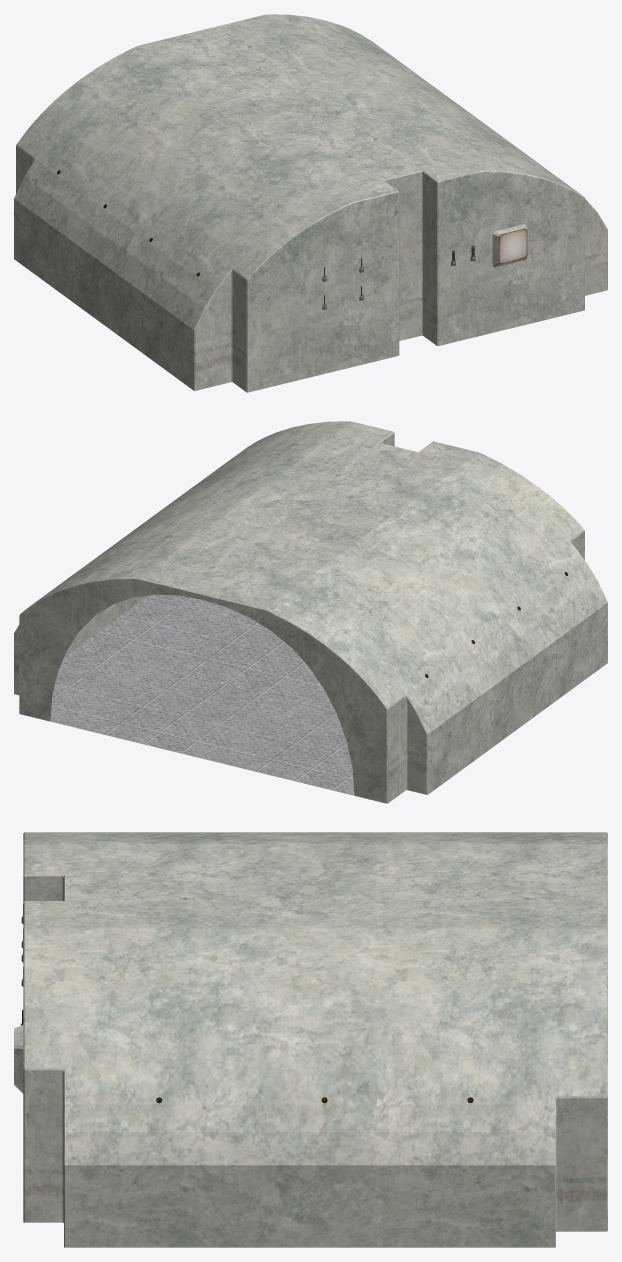
File: thm_all_cantina_r7_alcove4_mesh_r7.fbx
3 renders of one model, top to bottom at view 1: azimuth 30°, elevation 25°; view 2: azimuth 150°, elevation 25°; view 3: azimuth 270°, elevation 25°, orthographic. The views are drawn at different scales.
Visible parts, largest first — view 1: mesh_node; view 2: mesh_node; view 3: mesh_node.
Part boxes in pixels (x1,y1,x2,y2): mesh_node: (14, 14, 607, 392); mesh_node: (14, 421, 607, 803); mesh_node: (14, 832, 607, 1247).
Size of the model in its own units: 10.94 by 4.15 by 9.98.
